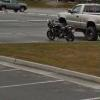Motorcycle: (42, 13, 82, 48)
